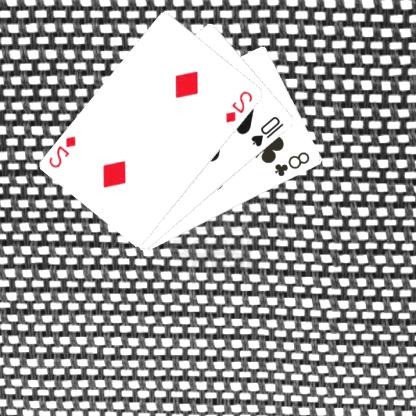10S: (250, 113, 288, 148)
2D: (48, 133, 80, 170), (225, 88, 256, 124)
8C: (274, 149, 313, 178)
